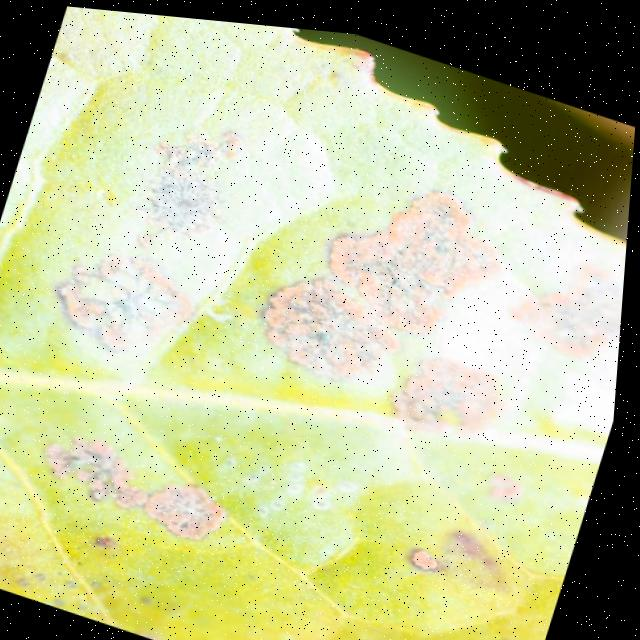Tea red rust: (0, 80, 635, 640)
